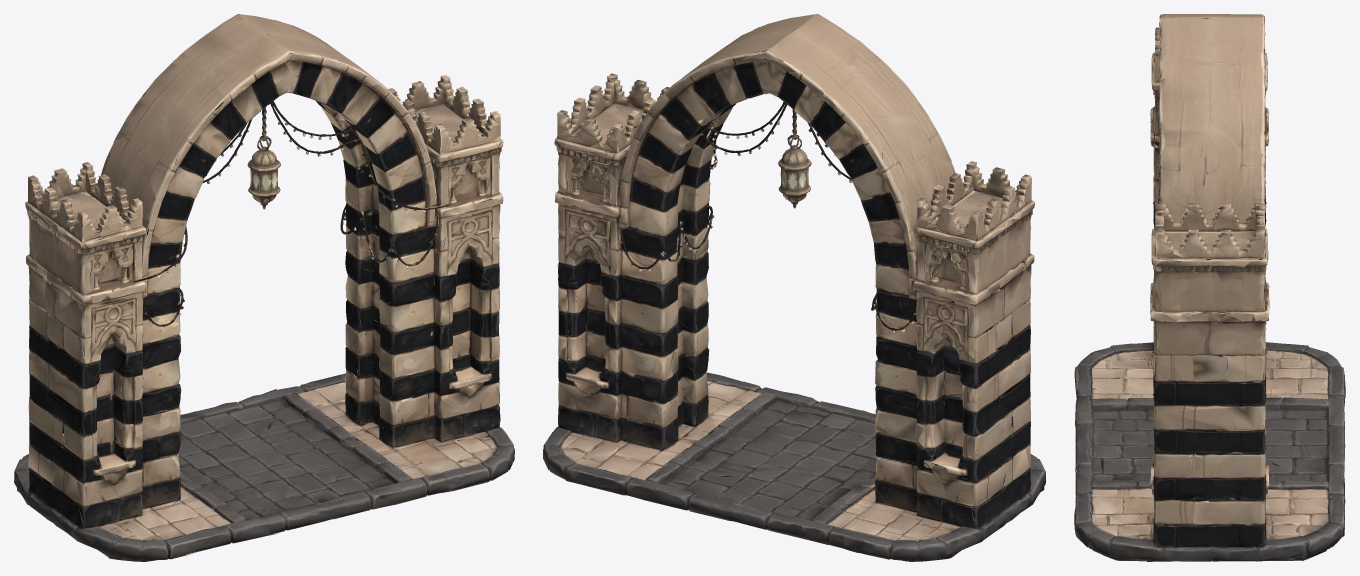
The model's file is M04_BazaarArch.fbx.
3 views of the same model, side by side, from view 1: azimuth 30°, elevation 25°; view 2: azimuth 150°, elevation 25°; view 3: azimuth 270°, elevation 25° (orthographic).
Visible parts, largest first — view 1: M04_BazaarArch.010; view 2: M04_BazaarArch.010; view 3: M04_BazaarArch.010.
Boxes of the visible parts, bbox=[...] form: M04_BazaarArch.010: bbox=[14, 14, 514, 561]; M04_BazaarArch.010: bbox=[543, 14, 1045, 561]; M04_BazaarArch.010: bbox=[1074, 14, 1345, 561].
Size of the model in its own units: 9.06 by 9 by 4.97.
1 material, 1 textured.
